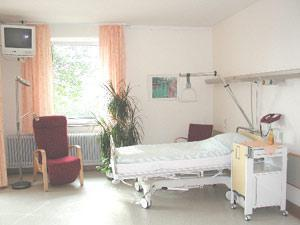Cama: (110, 130, 231, 170)
Matera: (99, 79, 142, 180)
Ventana: (43, 38, 116, 121)
